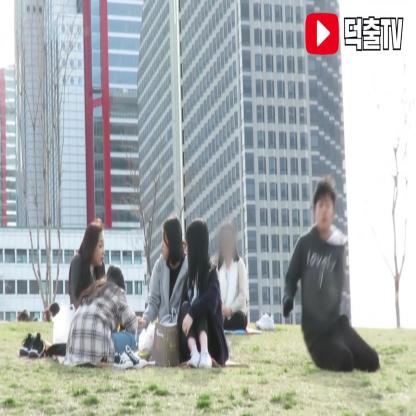Fall_Down: (281, 178, 381, 373)
